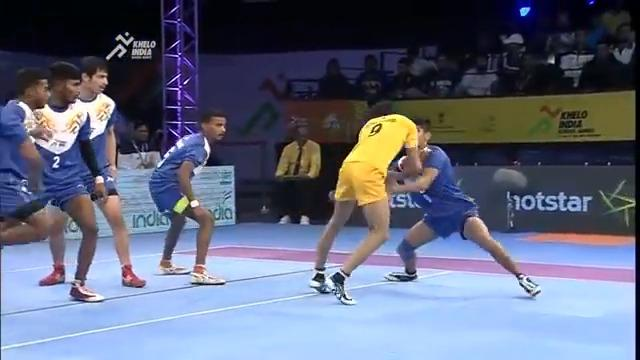Player: (383, 116, 542, 300), (42, 54, 109, 283), (147, 107, 231, 287), (6, 74, 70, 286), (76, 39, 128, 217)
Raider: (307, 110, 422, 305)
referee: (273, 118, 321, 225)
